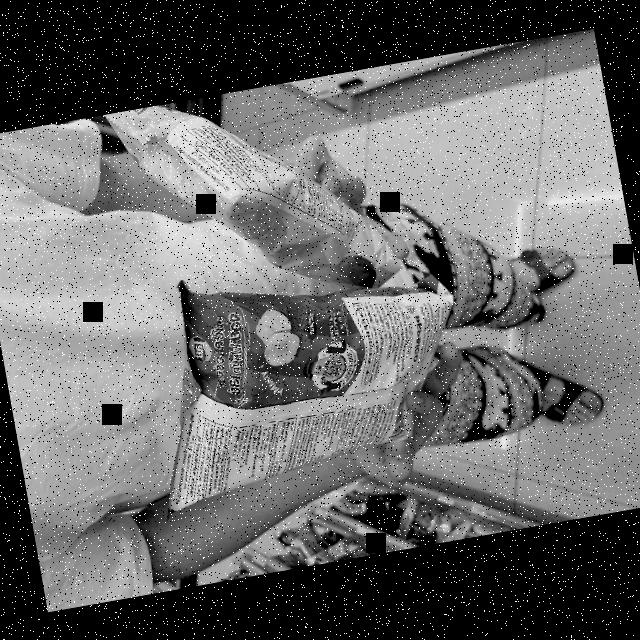snack_bag: (115, 234, 493, 526), (100, 67, 410, 326)
